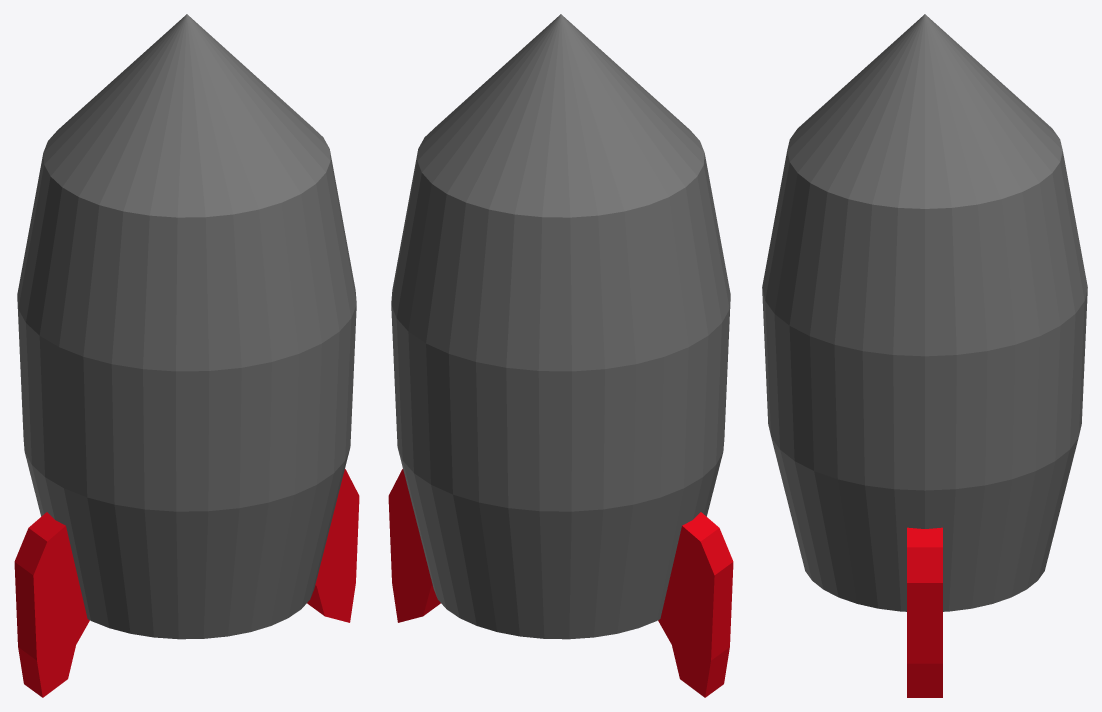
The model's file is rocketship.glb.
The picture shows the model from 3 angles, left to right: view 1: azimuth 30°, elevation 25°; view 2: azimuth 150°, elevation 25°; view 3: azimuth 270°, elevation 25°; orthographic projection. The views are drawn at different scales.
Parts seen in each view (by area): view 1: Cylinder, Cube.001, Cube; view 2: Cylinder, Cube.001, Cube; view 3: Cylinder, Cube.
Boxes of the visible parts, <box> form: Cylinder: <box>17,14,356,639</box>; Cube.001: <box>14,512,89,697</box>; Cube: <box>307,469,359,622</box>; Cylinder: <box>391,14,730,639</box>; Cube.001: <box>658,512,733,697</box>; Cube: <box>388,469,440,622</box>; Cylinder: <box>762,14,1087,611</box>; Cube: <box>907,527,942,697</box>.
Size of the model in its own units: 0.1194 by 0.2238 by 0.1079.
